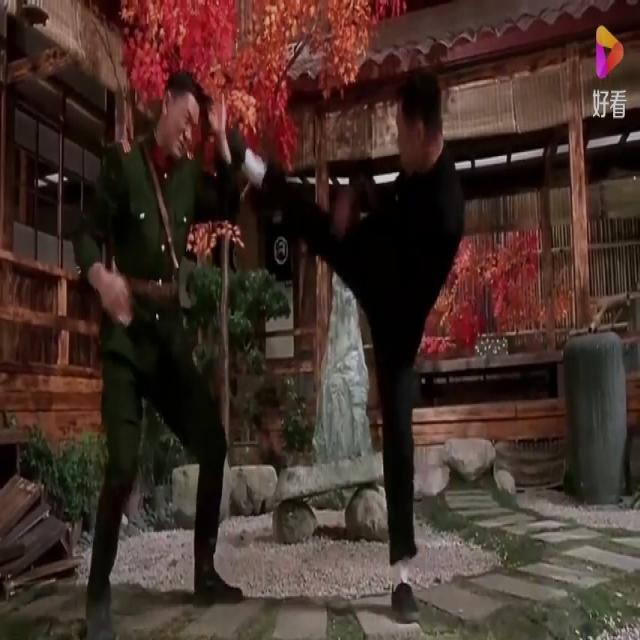fight: (74, 57, 482, 635)
